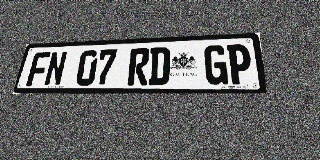0: (75, 50, 99, 86)
7: (94, 49, 117, 86)
D: (148, 47, 170, 85)
F: (26, 52, 51, 86)
G: (204, 45, 228, 85)
N: (43, 51, 68, 86)
P: (227, 44, 253, 84)
R: (127, 48, 150, 85)
